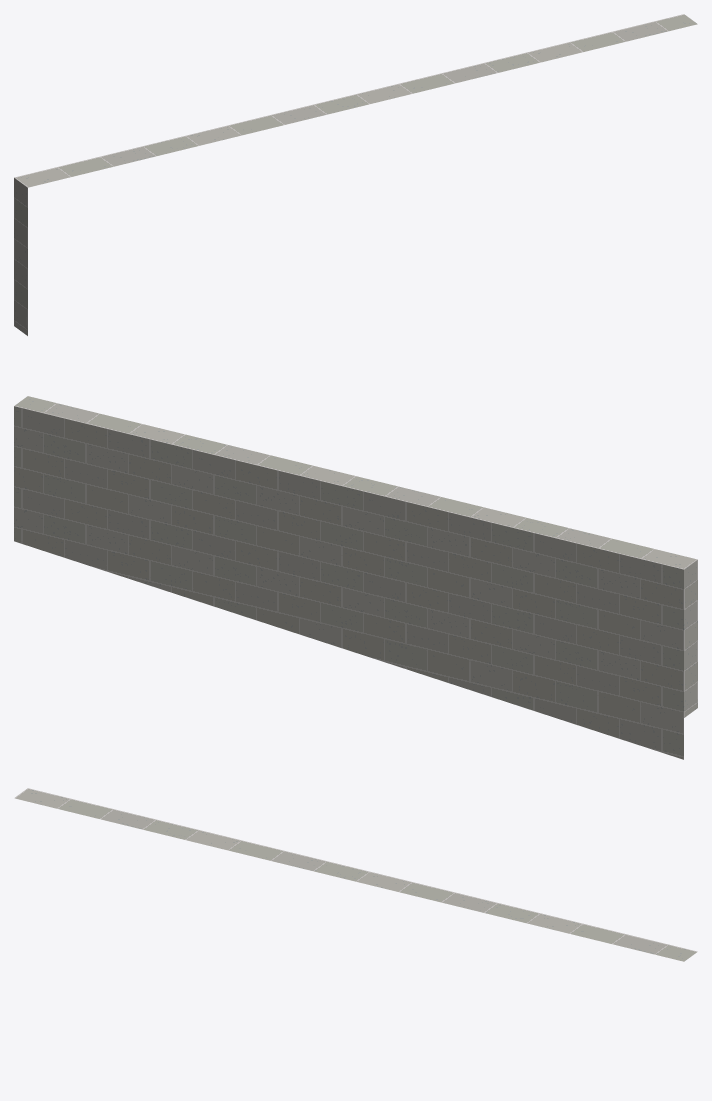
The model's file is kd_stage_135b75_2_12.glb.
3 renders of one model, top to bottom at view 1: azimuth 30°, elevation 25°; view 2: azimuth 150°, elevation 25°; view 3: azimuth 330°, elevation 25°, orthographic.
Parts seen in each view (by area): view 1: kd_stage_135b75_2_12; view 2: kd_stage_135b75_2_12; view 3: kd_stage_135b75_2_12.
Boxes of the visible parts, x1,y1,x2,y2 form: kd_stage_135b75_2_12: (14,14,697,335); kd_stage_135b75_2_12: (14,396,697,759); kd_stage_135b75_2_12: (14,788,697,961).
Size of the model in its own units: 8.39 by 2.28 by 0.3.
Materials: 1 (1 with a texture image).
